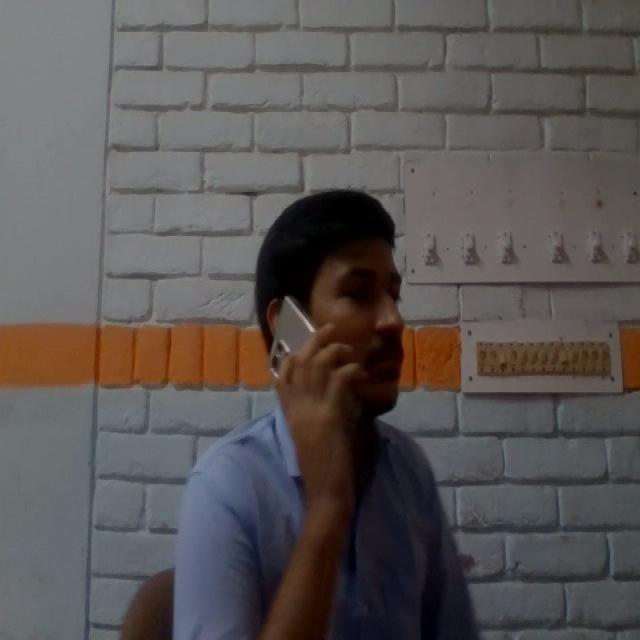oncall: (167, 186, 481, 640)
phone: (262, 298, 360, 436)
